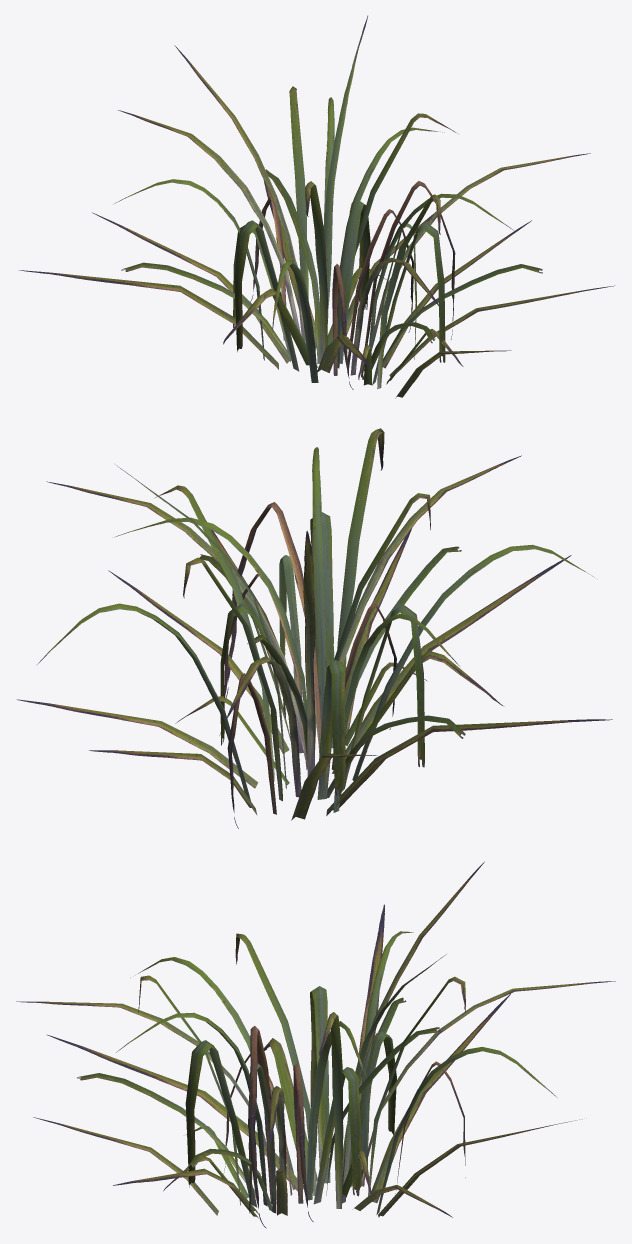
File: SM_WaterReeds.fbx
3 views of the same model, one above another, from view 1: azimuth 30°, elevation 25°; view 2: azimuth 150°, elevation 25°; view 3: azimuth 270°, elevation 25° (orthographic). The views are drawn at different scales.
Parts seen in each view (by area): view 1: T_WaterReeds_01_C.045, T_WaterReeds_01_C.012, T_WaterReeds_01_C.021, T_WaterReeds_01_C.022, T_WaterReeds_01, T_WaterReeds_01_C.029, T_WaterReeds_01_C.010, T_WaterReeds_01_C.032, T_WaterReeds_01_C.025, T_WaterReeds_01_C.013, T_WaterReeds_01_C.017, T_WaterReeds_01_C.044 (+22 smaller); view 2: T_WaterReeds_01_C.009, T_WaterReeds_01_C.014, T_WaterReeds_01_C.024, T_WaterReeds_01_C.013, T_WaterReeds_01_C.011, T_WaterReeds_01_C.045, T_WaterReeds_01_C.044, T_WaterReeds_01_C.016, T_WaterReeds_01_C.033, T_WaterReeds_01_C.032, T_WaterReeds_01_C.026, T_WaterReeds_01_C.043 (+22 smaller); view 3: T_WaterReeds_01_C.029, T_WaterReeds_01_C.010, T_WaterReeds_01_C.045, T_WaterReeds_01_C.027, T_WaterReeds_01_C.011, T_WaterReeds_01_C.025, T_WaterReeds_01_C.012, T_WaterReeds_01_C.033, T_WaterReeds_01_C.036, T_WaterReeds_01_C.009, T_WaterReeds_01_C.046, T_WaterReeds_01_C.042 (+21 smaller).
Part boxes in pixels (left/top/right/bottom): T_WaterReeds_01_C.045: left=234, top=220, right=299, bottom=371; T_WaterReeds_01_C.012: left=305, top=181, right=327, bottom=357; T_WaterReeds_01_C.021: left=289, top=86, right=308, bottom=344; T_WaterReeds_01_C.022: left=118, top=110, right=300, bottom=333; T_WaterReeds_01: left=324, top=15, right=367, bottom=295; T_WaterReeds_01_C.029: left=372, top=223, right=445, bottom=385; T_WaterReeds_01_C.010: left=339, top=201, right=370, bottom=363; T_WaterReeds_01_C.032: left=19, top=270, right=278, bottom=369; T_WaterReeds_01_C.025: left=337, top=127, right=444, bottom=368; T_WaterReeds_01_C.013: left=174, top=45, right=305, bottom=342; T_WaterReeds_01_C.017: left=266, top=169, right=321, bottom=364; T_WaterReeds_01_C.044: left=272, top=260, right=318, bottom=382; T_WaterReeds_01_C.009: left=317, top=659, right=345, bottom=799; T_WaterReeds_01_C.014: left=312, top=447, right=327, bottom=722; T_WaterReeds_01_C.024: left=337, top=428, right=384, bottom=671; T_WaterReeds_01_C.013: left=303, top=530, right=315, bottom=793; T_WaterReeds_01_C.011: left=226, top=502, right=321, bottom=754; T_WaterReeds_01_C.045: left=341, top=604, right=424, bottom=791; T_WaterReeds_01_C.044: left=352, top=544, right=594, bottom=780; T_WaterReeds_01_C.016: left=338, top=455, right=521, bottom=664; T_WaterReeds_01_C.033: left=332, top=555, right=571, bottom=773; T_WaterReeds_01_C.032: left=326, top=719, right=612, bottom=815; T_WaterReeds_01_C.026: left=46, top=481, right=305, bottom=758; T_WaterReeds_01_C.043: left=36, top=603, right=250, bottom=800; T_WaterReeds_01_C.029: left=185, top=1040, right=257, bottom=1207; T_WaterReeds_01_C.010: left=313, top=1067, right=361, bottom=1204; T_WaterReeds_01_C.045: left=310, top=986, right=330, bottom=1183; T_WaterReeds_01_C.027: left=319, top=1012, right=343, bottom=1208; T_WaterReeds_01_C.011: left=248, top=1026, right=276, bottom=1228; T_WaterReeds_01_C.025: left=306, top=1021, right=366, bottom=1200; T_WaterReeds_01_C.012: left=235, top=933, right=316, bottom=1195; T_WaterReeds_01_C.033: left=46, top=1034, right=303, bottom=1191; T_WaterReeds_01_C.036: left=371, top=993, right=510, bottom=1202; T_WaterReeds_01_C.009: left=348, top=1031, right=396, bottom=1187; T_WaterReeds_01_C.046: left=293, top=1064, right=313, bottom=1221; T_WaterReeds_01_C.042: left=361, top=931, right=413, bottom=1167.
Size of the model in its own units: 177 by 94.57 by 167.
